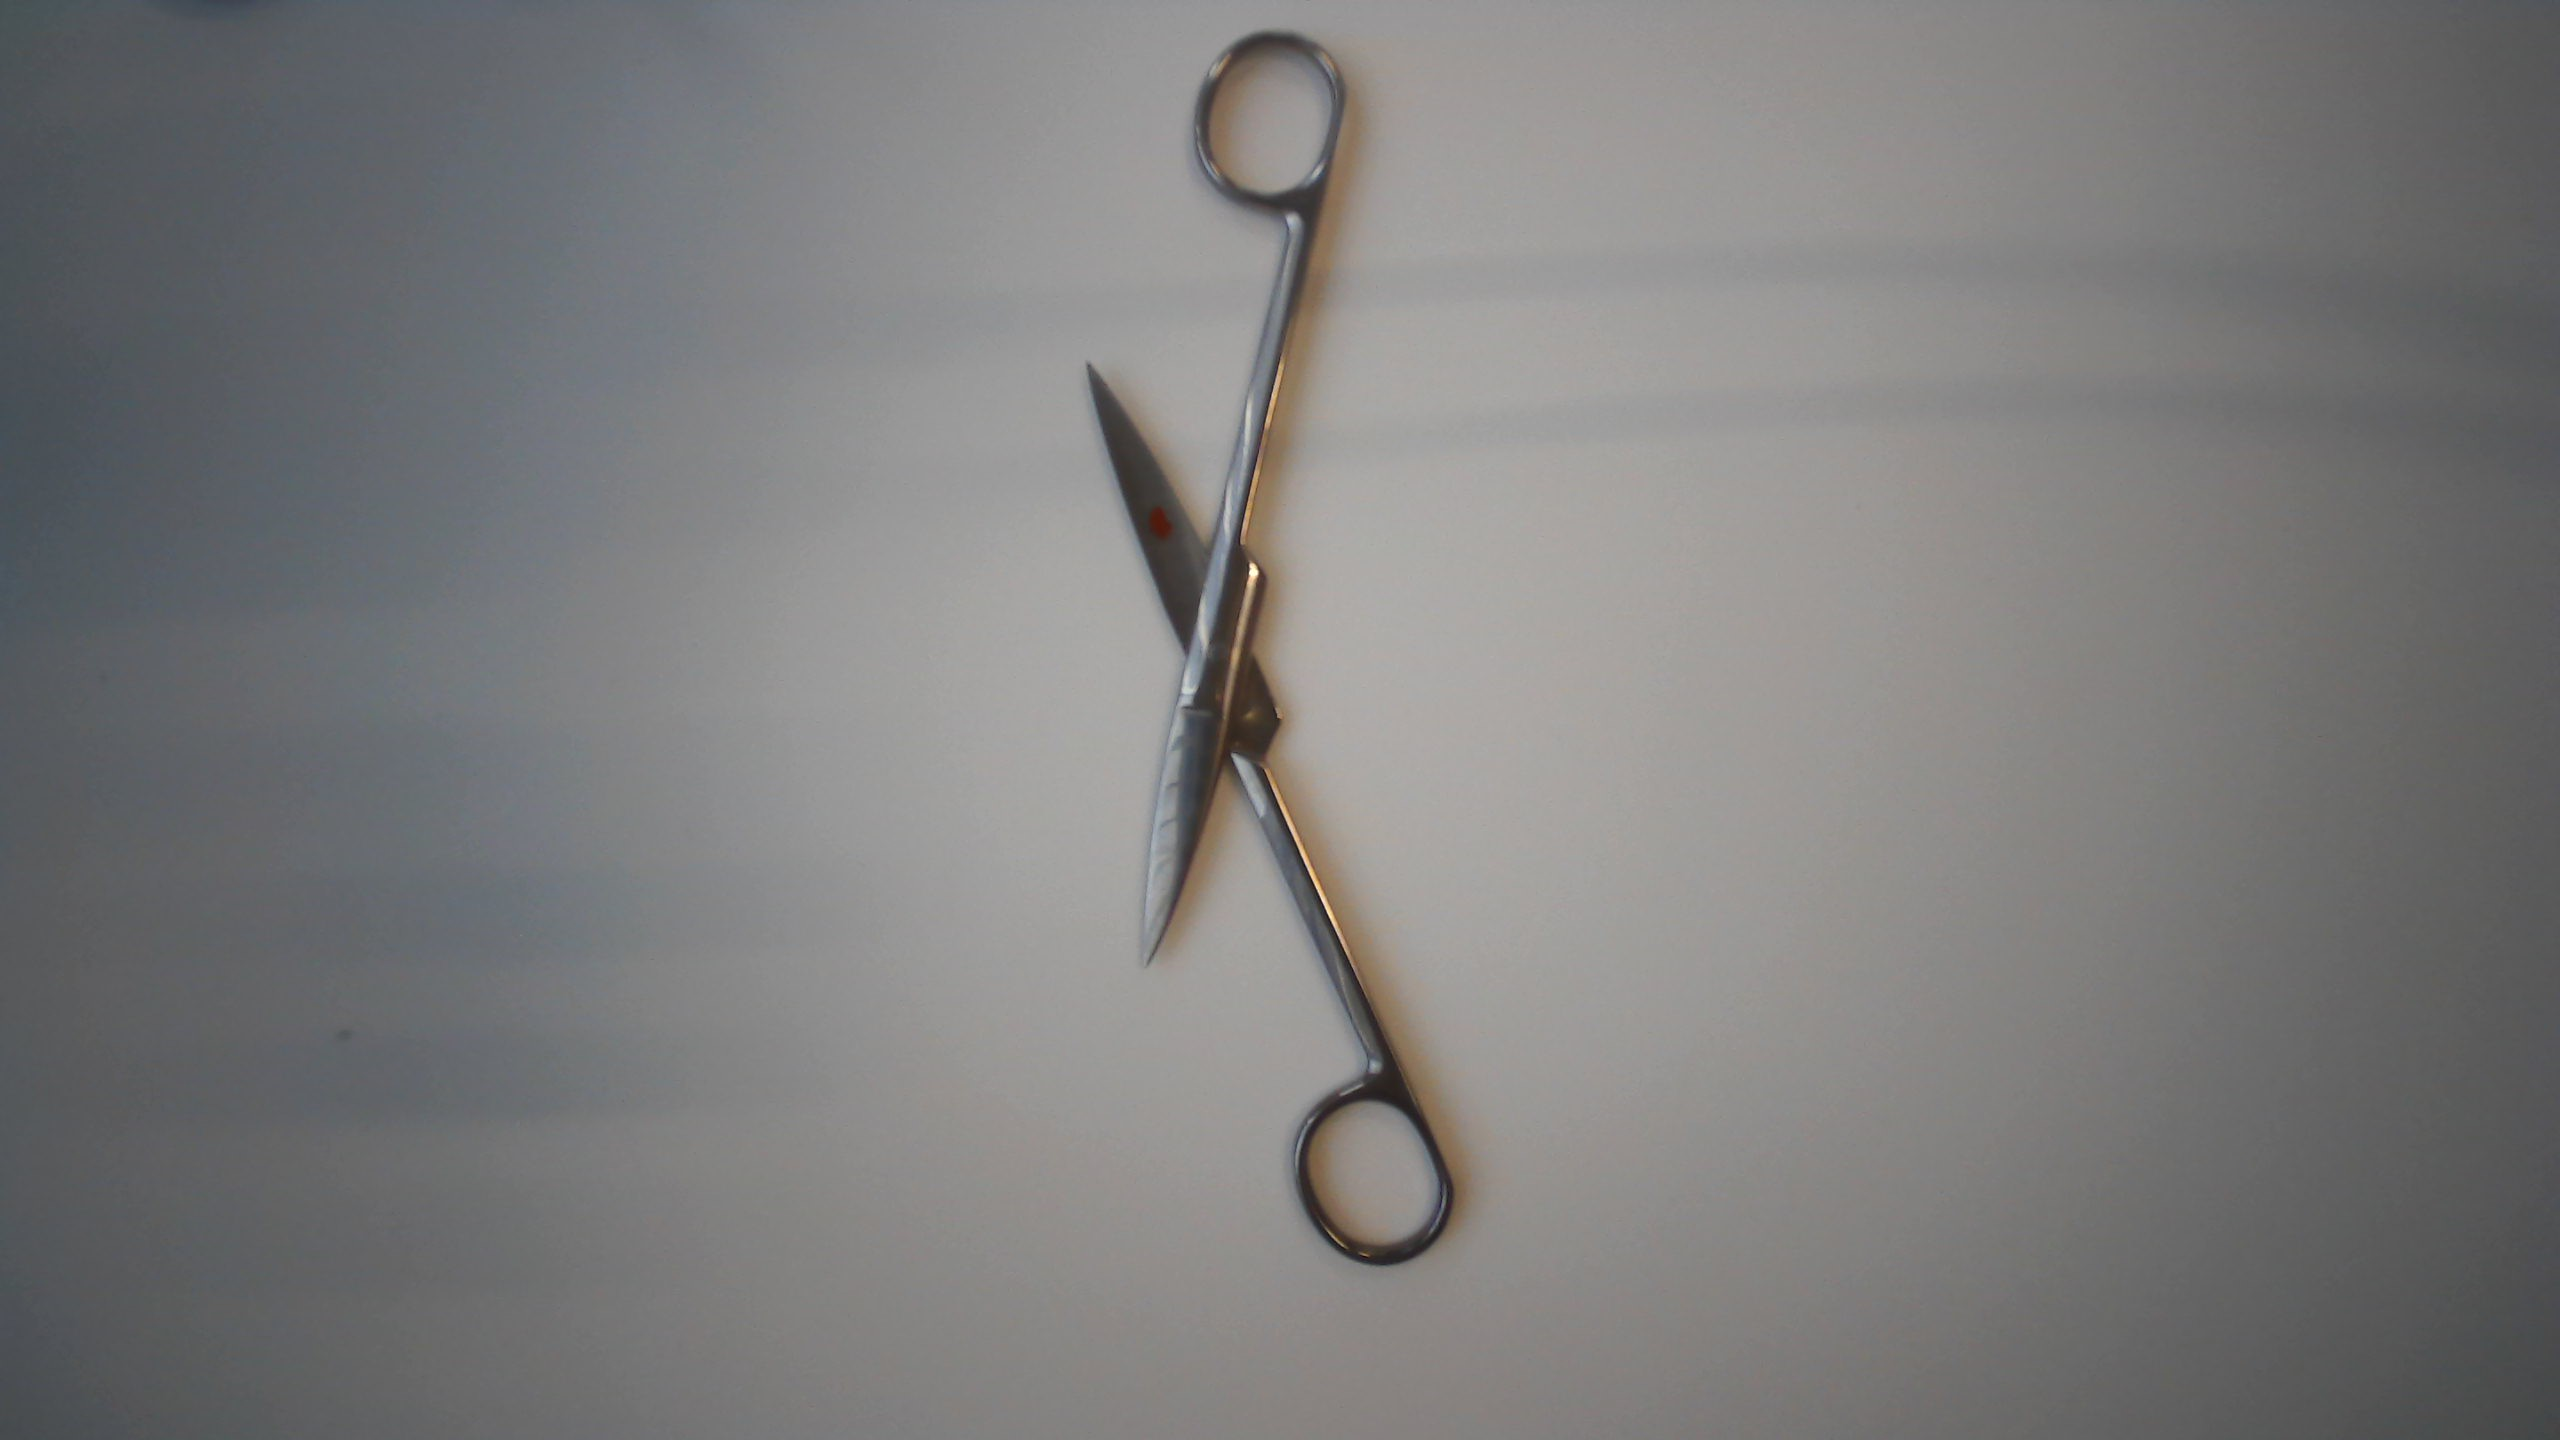Stain: (1141, 494, 1183, 552)
